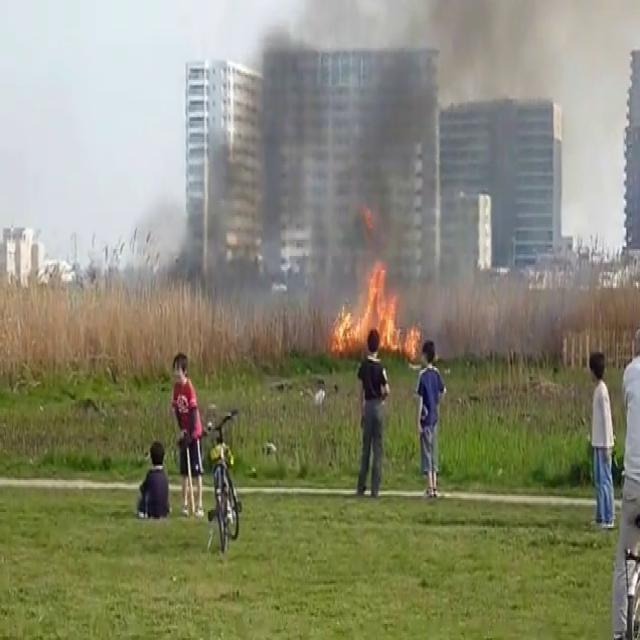Fire: (328, 256, 418, 359)
Smoke: (190, 0, 566, 318)
